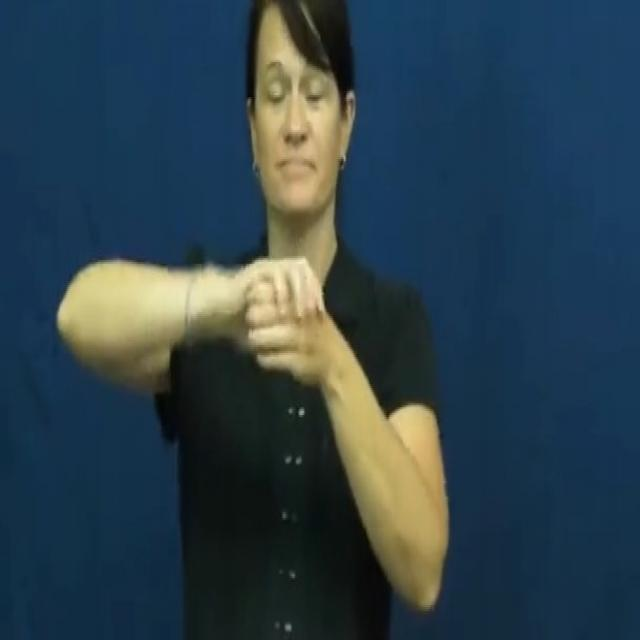lid: (177, 232, 362, 398)
